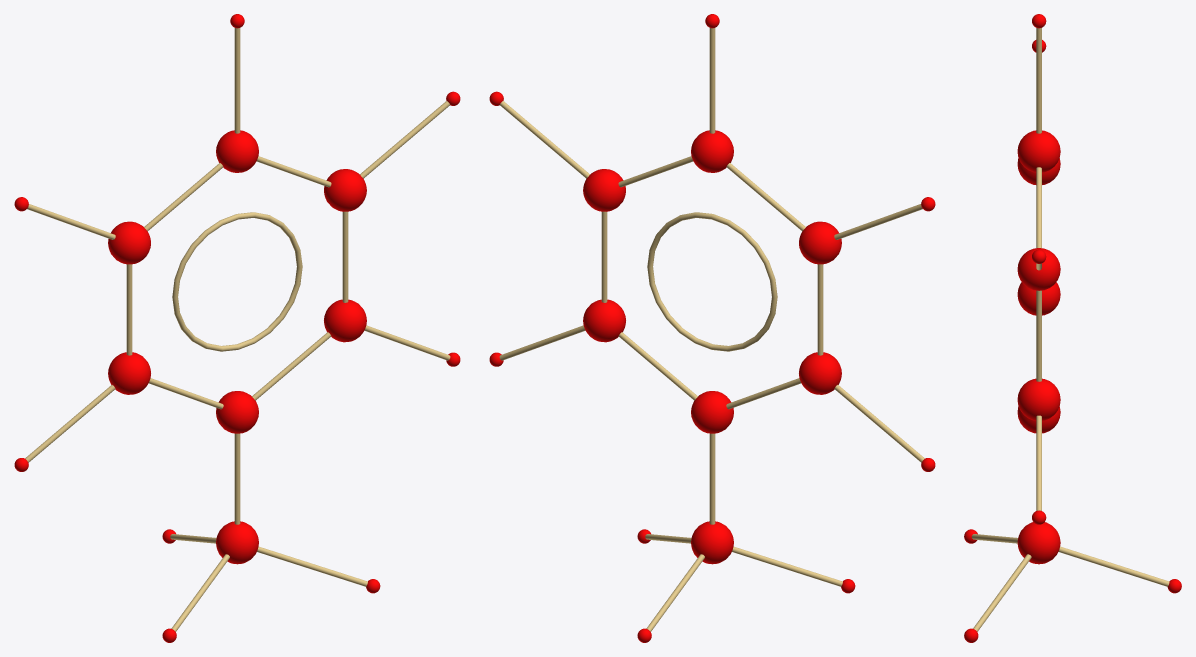
File: sugars.fbx
3 renders of one model, left to right at view 1: azimuth 30°, elevation 25°; view 2: azimuth 150°, elevation 25°; view 3: azimuth 270°, elevation 25°, orthographic.
Parts seen in each view (by area): view 1: _1266, _1253, _1262, _1251, _1260, _1264, _1256, _1259, _1263; view 2: _1266, _1253, _1262, _1252, _1260, _1264, _1256, _1259, _1263; view 3: _1266, _1250, _1262, _1251, _1265, _1263, _1258.
Boxes of the visible parts, box(x1,y1,x2,y2) form: _1266: box(14, 14, 460, 642); _1253: box(172, 212, 302, 351); _1262: box(234, 28, 240, 133); _1251: box(257, 546, 367, 586); _1260: box(25, 385, 115, 462); _1264: box(360, 101, 449, 178); _1256: box(126, 264, 132, 355); _1259: box(234, 433, 240, 524); _1263: box(342, 211, 348, 302); _1266: box(489, 14, 935, 642); _1253: box(647, 212, 777, 351); _1262: box(709, 28, 715, 133); _1252: box(732, 546, 842, 586); _1260: box(834, 385, 924, 462); _1264: box(500, 101, 589, 178); _1256: box(817, 264, 823, 355); _1259: box(709, 433, 715, 524); _1263: box(601, 211, 607, 302); _1266: box(964, 14, 1181, 642); _1250: box(1058, 546, 1169, 586); _1262: box(1036, 28, 1041, 133); _1251: box(973, 554, 1031, 631); _1265: box(1036, 415, 1041, 510); _1263: box(1036, 290, 1041, 381); _1258: box(1036, 167, 1041, 248).
Bounding box in the file's own units: 2.95 × 3.67 × 1.25.
